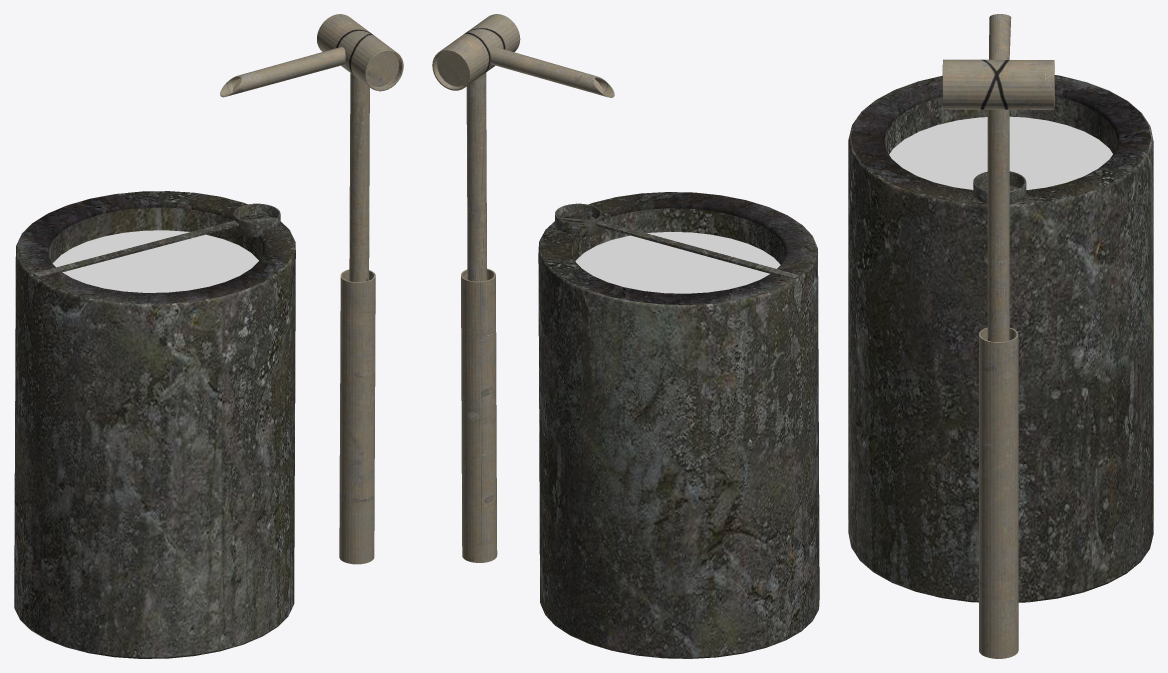
File: Temizusha.fbx
The picture shows the model from 3 angles, left to right: view 1: azimuth 30°, elevation 25°; view 2: azimuth 150°, elevation 25°; view 3: azimuth 270°, elevation 25°; orthographic projection. The views are drawn at different scales.
Parts seen in each view (by area): view 1: temizusha; view 2: temizusha; view 3: temizusha.
Boxes of the visible parts, <box> form: temizusha: <box>14,14,403,658</box>; temizusha: <box>432,14,819,658</box>; temizusha: <box>848,14,1153,658</box>.
Bounding box in the file's own units: 448 × 645 × 302.
Materials: 4 (3 with a texture image).
